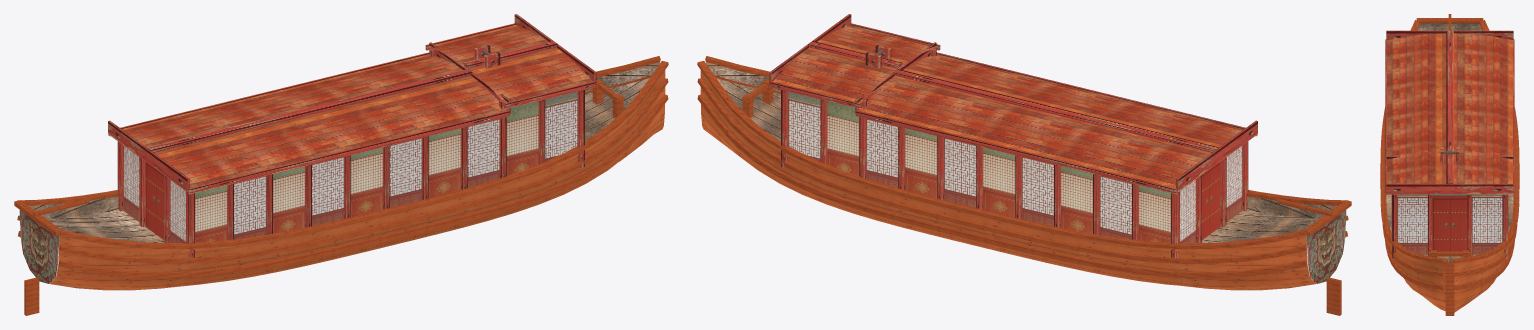
The model's file is qm_bigboat_lo.glb.
The picture shows the model from 3 angles, left to right: view 1: azimuth 30°, elevation 25°; view 2: azimuth 150°, elevation 25°; view 3: azimuth 270°, elevation 25°; orthographic projection. The views are drawn at different scales.
Parts seen in each view (by area): view 1: roof, wale, lac, hull, bay_b, bay_a, deck, tiger, door; view 2: roof, wale, lac, hull, bay_b, bay_a, deck, tiger, door; view 3: roof, lac, wale, bay_b, hull, door, deck.
Part boxes in pixels (left/top/right/bottom): roof: left=122, top=25, right=592, bottom=188; wale: left=14, top=56, right=668, bottom=315; lac: left=108, top=14, right=596, bottom=258; hull: left=49, top=70, right=665, bottom=290; bay_b: left=123, top=91, right=577, bottom=246; bay_a: left=195, top=101, right=538, bottom=242; deck: left=28, top=62, right=659, bottom=247; tiger: left=19, top=210, right=59, bottom=283; door: left=145, top=162, right=163, bottom=239; roof: left=773, top=25, right=1243, bottom=188; wale: left=697, top=56, right=1351, bottom=315; lac: left=769, top=14, right=1257, bottom=258; hull: left=700, top=70, right=1316, bottom=290; bay_b: left=788, top=91, right=1242, bottom=246; bay_a: left=827, top=101, right=1170, bottom=242; deck: left=706, top=62, right=1337, bottom=247; tiger: left=1306, top=210, right=1346, bottom=283; door: left=1202, top=162, right=1220, bottom=239; roof: left=1387, top=33, right=1512, bottom=183; lac: left=1385, top=30, right=1514, bottom=258; wale: left=1380, top=14, right=1519, bottom=315; bay_b: left=1397, top=194, right=1502, bottom=254; hull: left=1389, top=242, right=1510, bottom=312; door: left=1432, top=194, right=1467, bottom=251; deck: left=1386, top=23, right=1513, bottom=262.
Size of the model in its own units: 16.42 by 3.72 by 3.86.
10 materials, 9 textured.
